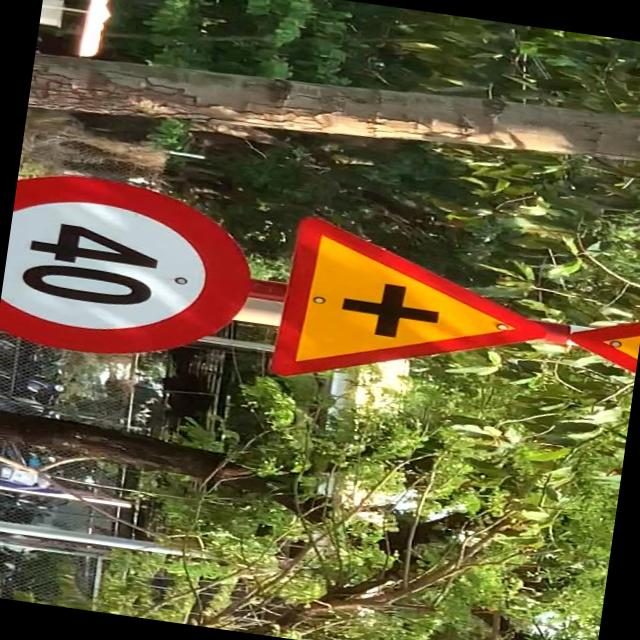W-205a: (268, 212, 560, 412)
